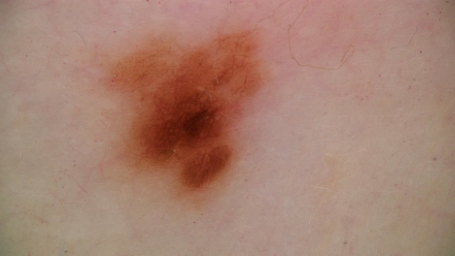nevus: (102, 35, 263, 200)
